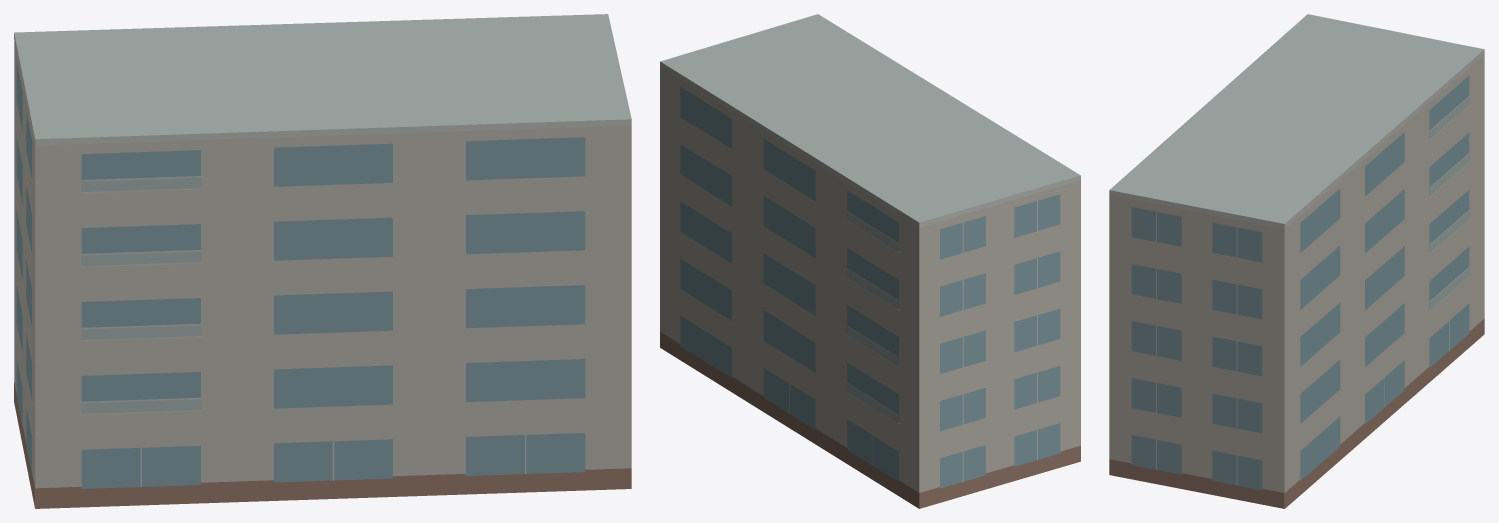
The model's file is survey-upis-32881937.glb.
3 renders of one model, left to right at view 1: azimuth 30°, elevation 25°; view 2: azimuth 150°, elevation 25°; view 3: azimuth 270°, elevation 25°, orthographic. The views are drawn at different scales.
Visible parts, largest first — view 1: survey-upis-32881937.tmp; view 2: survey-upis-32881937.tmp; view 3: survey-upis-32881937.tmp.
Boxes of the visible parts, left/top/right/bottom form: survey-upis-32881937.tmp: left=14, top=14, right=631, bottom=508; survey-upis-32881937.tmp: left=660, top=14, right=1080, bottom=508; survey-upis-32881937.tmp: left=1109, top=14, right=1484, bottom=508.
Bounding box in the file's own units: 22.61 × 14.3 × 17.08.
